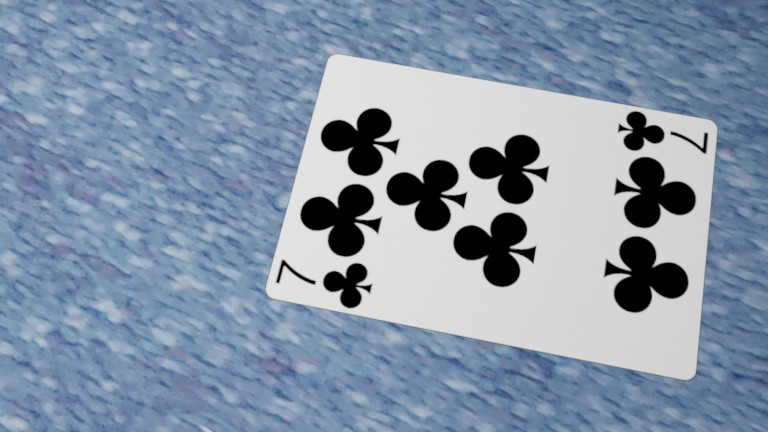7_of_clubs: (108, 98, 152, 126), (245, 42, 284, 66)
